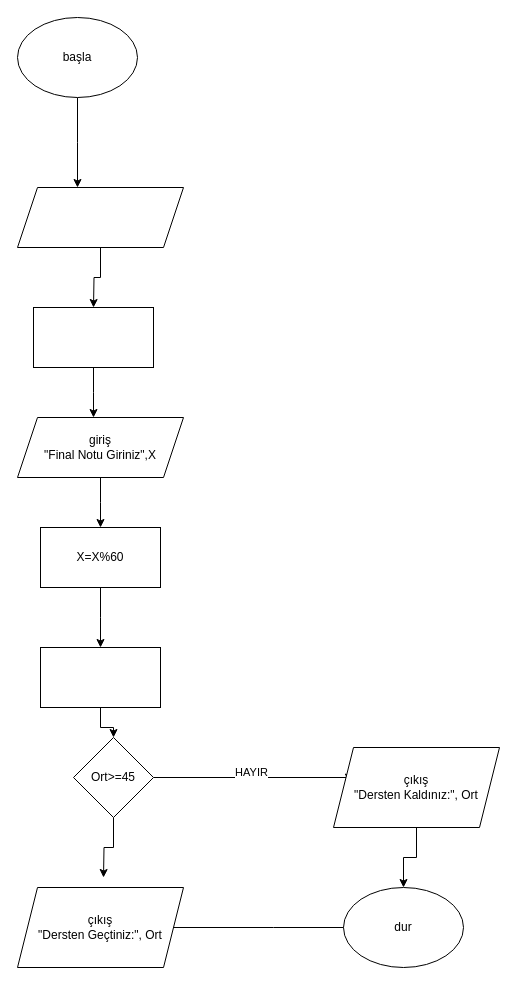
This 517x985 diagram has some shape labels left out. Each missing label, with the centre of its shape:
giriş "Vize Notu Giriniz",Y: (x=100, y=217)
Ort=X+Y: (x=100, y=677)
Y=Y %40: (x=93, y=337)
